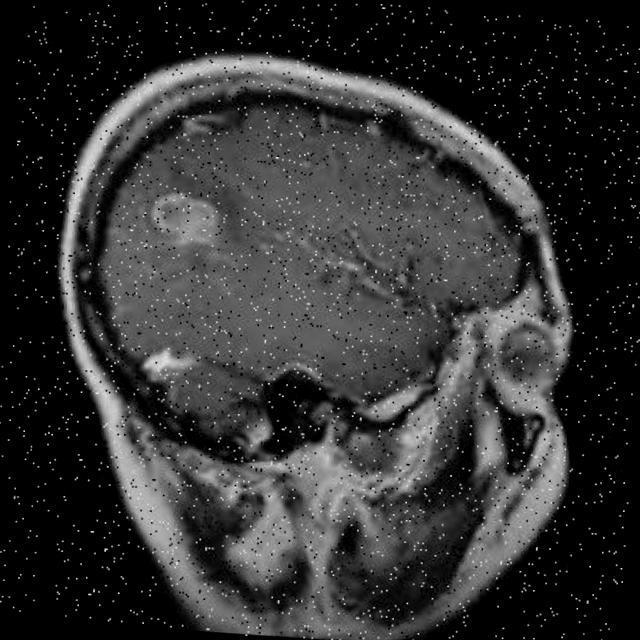CN: (128, 126, 229, 280)
